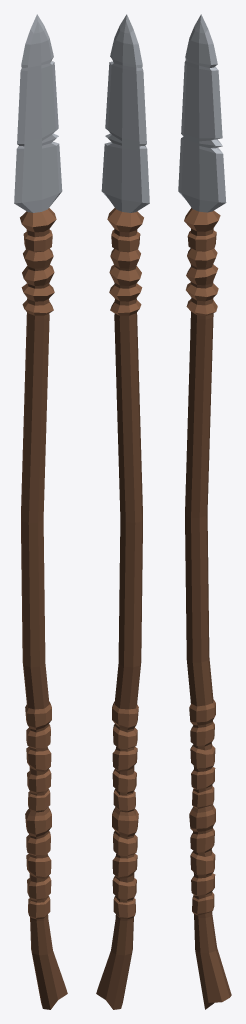
Rendered from Spear.gltf.
The picture shows the model from 3 angles, left to right: view 1: azimuth 30°, elevation 25°; view 2: azimuth 150°, elevation 25°; view 3: azimuth 330°, elevation 25°; orthographic projection.
Visible parts, largest first — view 1: Spear.003, Spear.002, Spear.001, Spear; view 2: Spear.003, Spear.002, Spear.001, Spear; view 3: Spear.003, Spear.002, Spear.001, Spear.
Boxes of the visible parts, bbox=[...] form: Spear.003: bbox=[21, 229, 67, 1009]; Spear.002: bbox=[20, 208, 56, 919]; Spear.001: bbox=[21, 21, 59, 212]; Spear: bbox=[14, 14, 62, 212]; Spear.003: bbox=[96, 229, 142, 1009]; Spear.002: bbox=[107, 208, 143, 919]; Spear.001: bbox=[104, 21, 142, 212]; Spear: bbox=[101, 14, 149, 212]; Spear.003: bbox=[185, 228, 231, 1009]; Spear.002: bbox=[184, 208, 220, 915]; Spear.001: bbox=[181, 21, 218, 212]; Spear: bbox=[178, 14, 226, 212].
Size of the model in its own units: 0.5301 by 9.72 by 0.3249.
